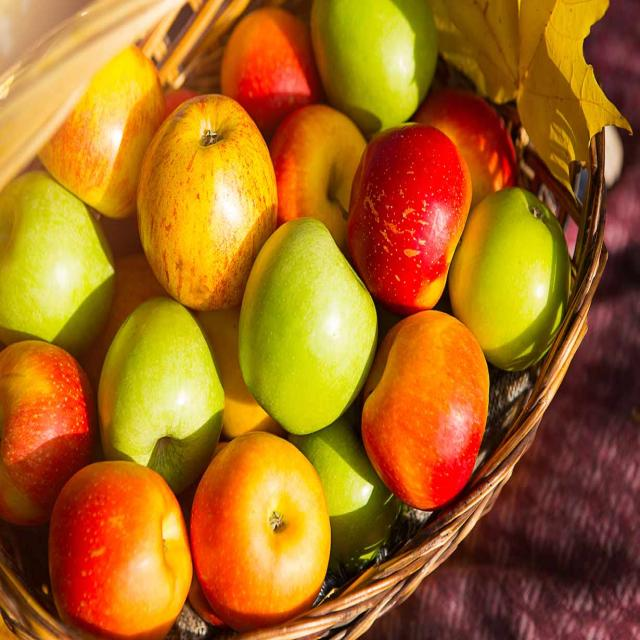Green Apple: (237, 212, 379, 428), (98, 294, 226, 497), (2, 170, 118, 344), (310, 2, 443, 130)
Red Apple: (1, 7, 500, 637), (189, 432, 331, 635), (361, 306, 491, 511), (49, 460, 194, 640), (346, 121, 473, 312)
